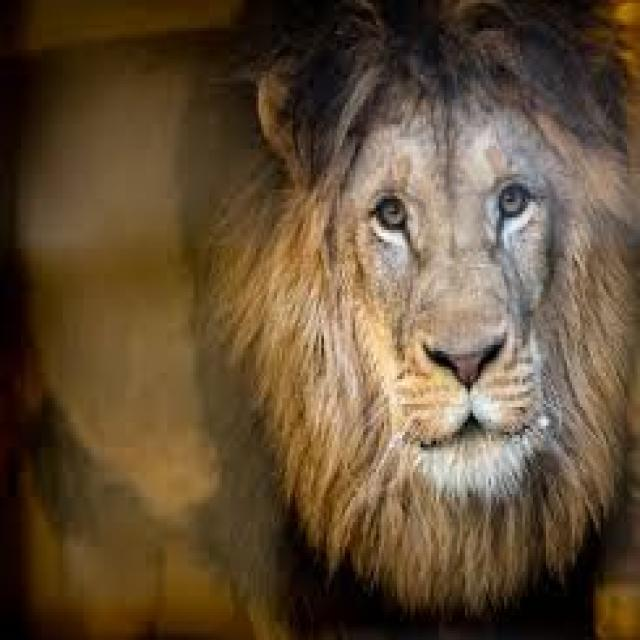Lion: (204, 0, 635, 612)
